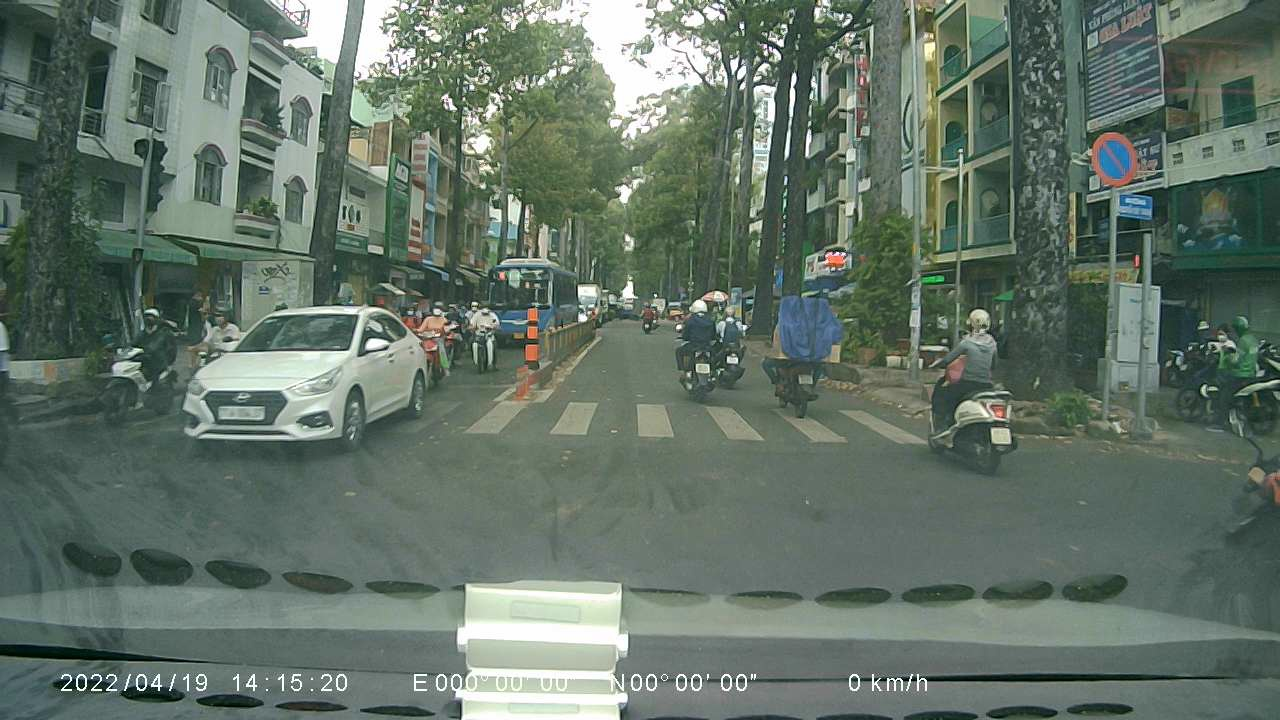Cam do xe: (1092, 129, 1141, 187)
